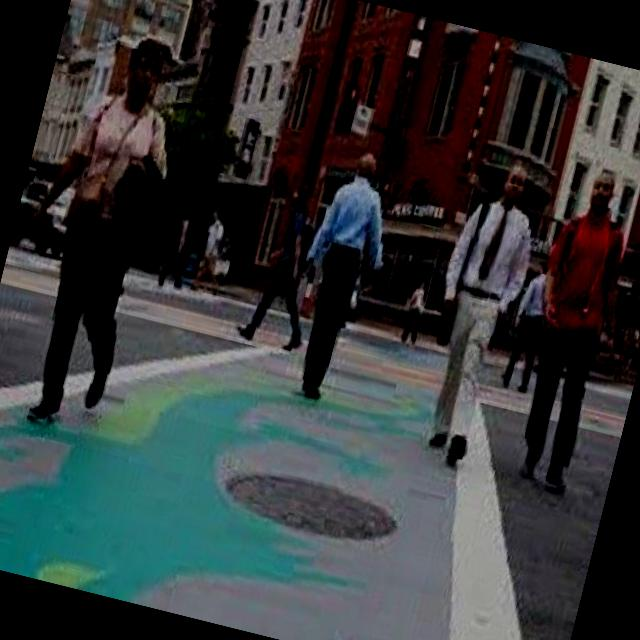Person: (0, 20, 203, 440), (401, 150, 554, 478), (497, 161, 640, 496), (274, 138, 412, 410)
